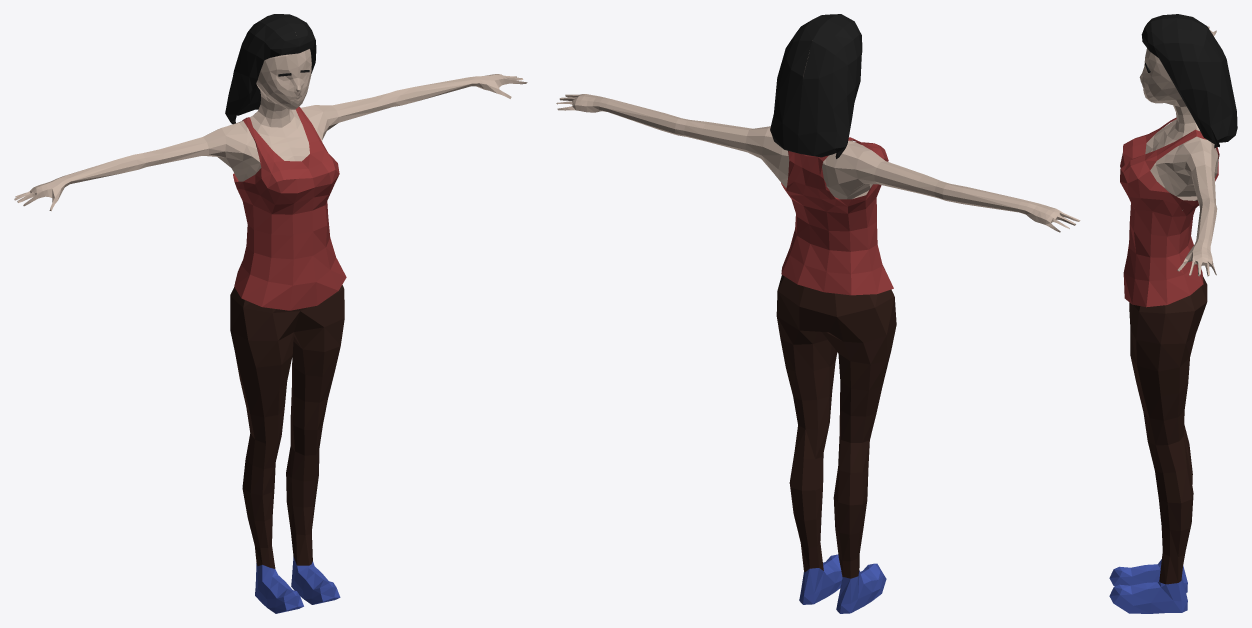
File: woman_1.fbx
The picture shows the model from 3 angles, left to right: view 1: azimuth 30°, elevation 25°; view 2: azimuth 150°, elevation 25°; view 3: azimuth 270°, elevation 25°; orthographic projection. The views are drawn at different scales.
Visible parts, largest first — view 1: woman; view 2: woman; view 3: woman.
Boxes of the visible parts, box(x1,y1,x2,y2) form: woman: box(14, 14, 527, 613); woman: box(556, 14, 1080, 613); woman: box(1109, 14, 1237, 613).
Bounding box in the file's own units: 138 × 150 × 29.88.
